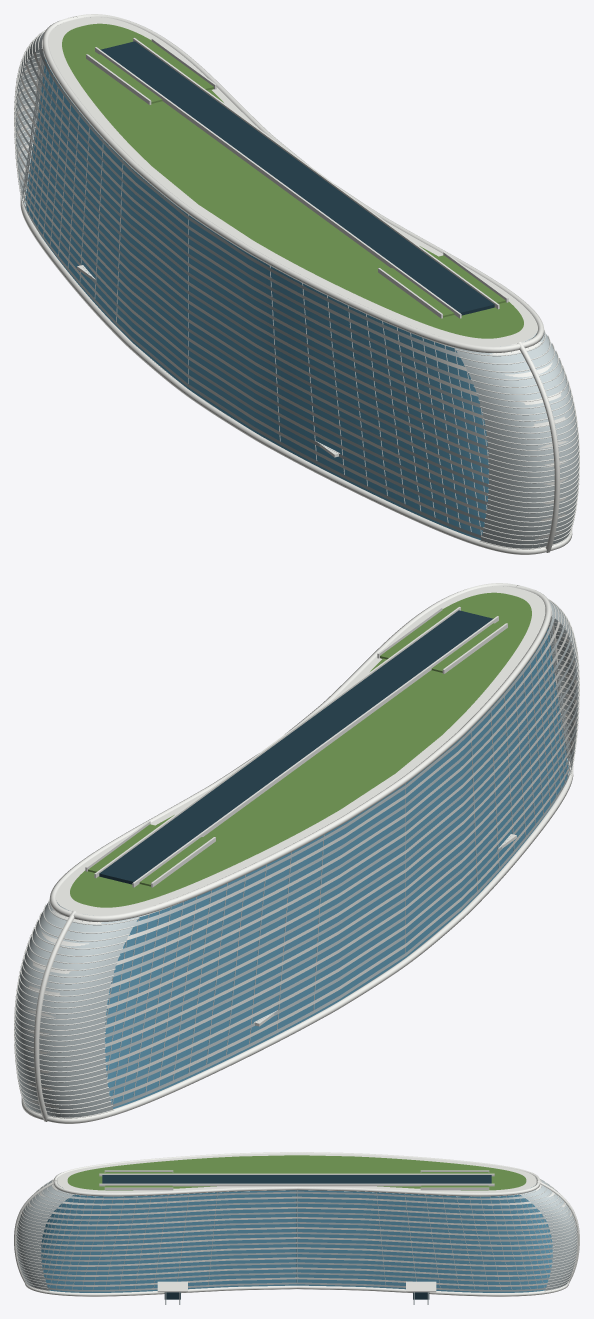
Rendered from slab-3.glb.
3 renders of one model, top to bottom at view 1: azimuth 30°, elevation 25°; view 2: azimuth 150°, elevation 25°; view 3: azimuth 270°, elevation 25°, orthographic. The views are drawn at different scales.
Size of the model in its own units: 4.18 by 3.78 by 18.56.
